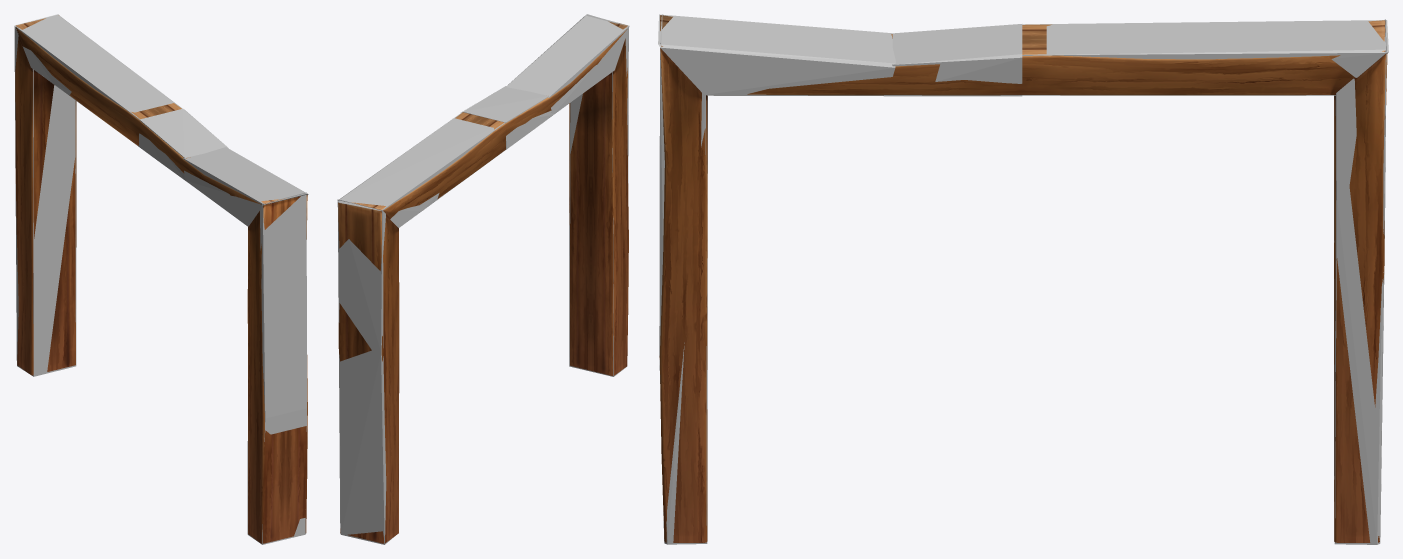
Rendered from SM_PropDoor01TypeBFrame.fbx.
3 views of the same model, side by side, from view 1: azimuth 30°, elevation 25°; view 2: azimuth 150°, elevation 25°; view 3: azimuth 270°, elevation 25° (orthographic). The views are drawn at different scales.
Parts seen in each view (by area): view 1: SM_PropDoor01TypeBFrame_ConvexHulls, SM_PropDoor01TypeBFrame; view 2: SM_PropDoor01TypeBFrame, SM_PropDoor01TypeBFrame_ConvexHulls; view 3: SM_PropDoor01TypeBFrame, SM_PropDoor01TypeBFrame_ConvexHulls.
Boxes of the visible parts, <box> form: SM_PropDoor01TypeBFrame_ConvexHulls: <box>14,14,308,544</box>; SM_PropDoor01TypeBFrame: <box>15,15,307,543</box>; SM_PropDoor01TypeBFrame: <box>338,21,628,543</box>; SM_PropDoor01TypeBFrame_ConvexHulls: <box>337,14,629,544</box>; SM_PropDoor01TypeBFrame: <box>659,15,1387,542</box>; SM_PropDoor01TypeBFrame_ConvexHulls: <box>658,14,1388,544</box>.
Size of the model in its own units: 34.81 by 327 by 247.
Materials: 2 (1 with a texture image).
